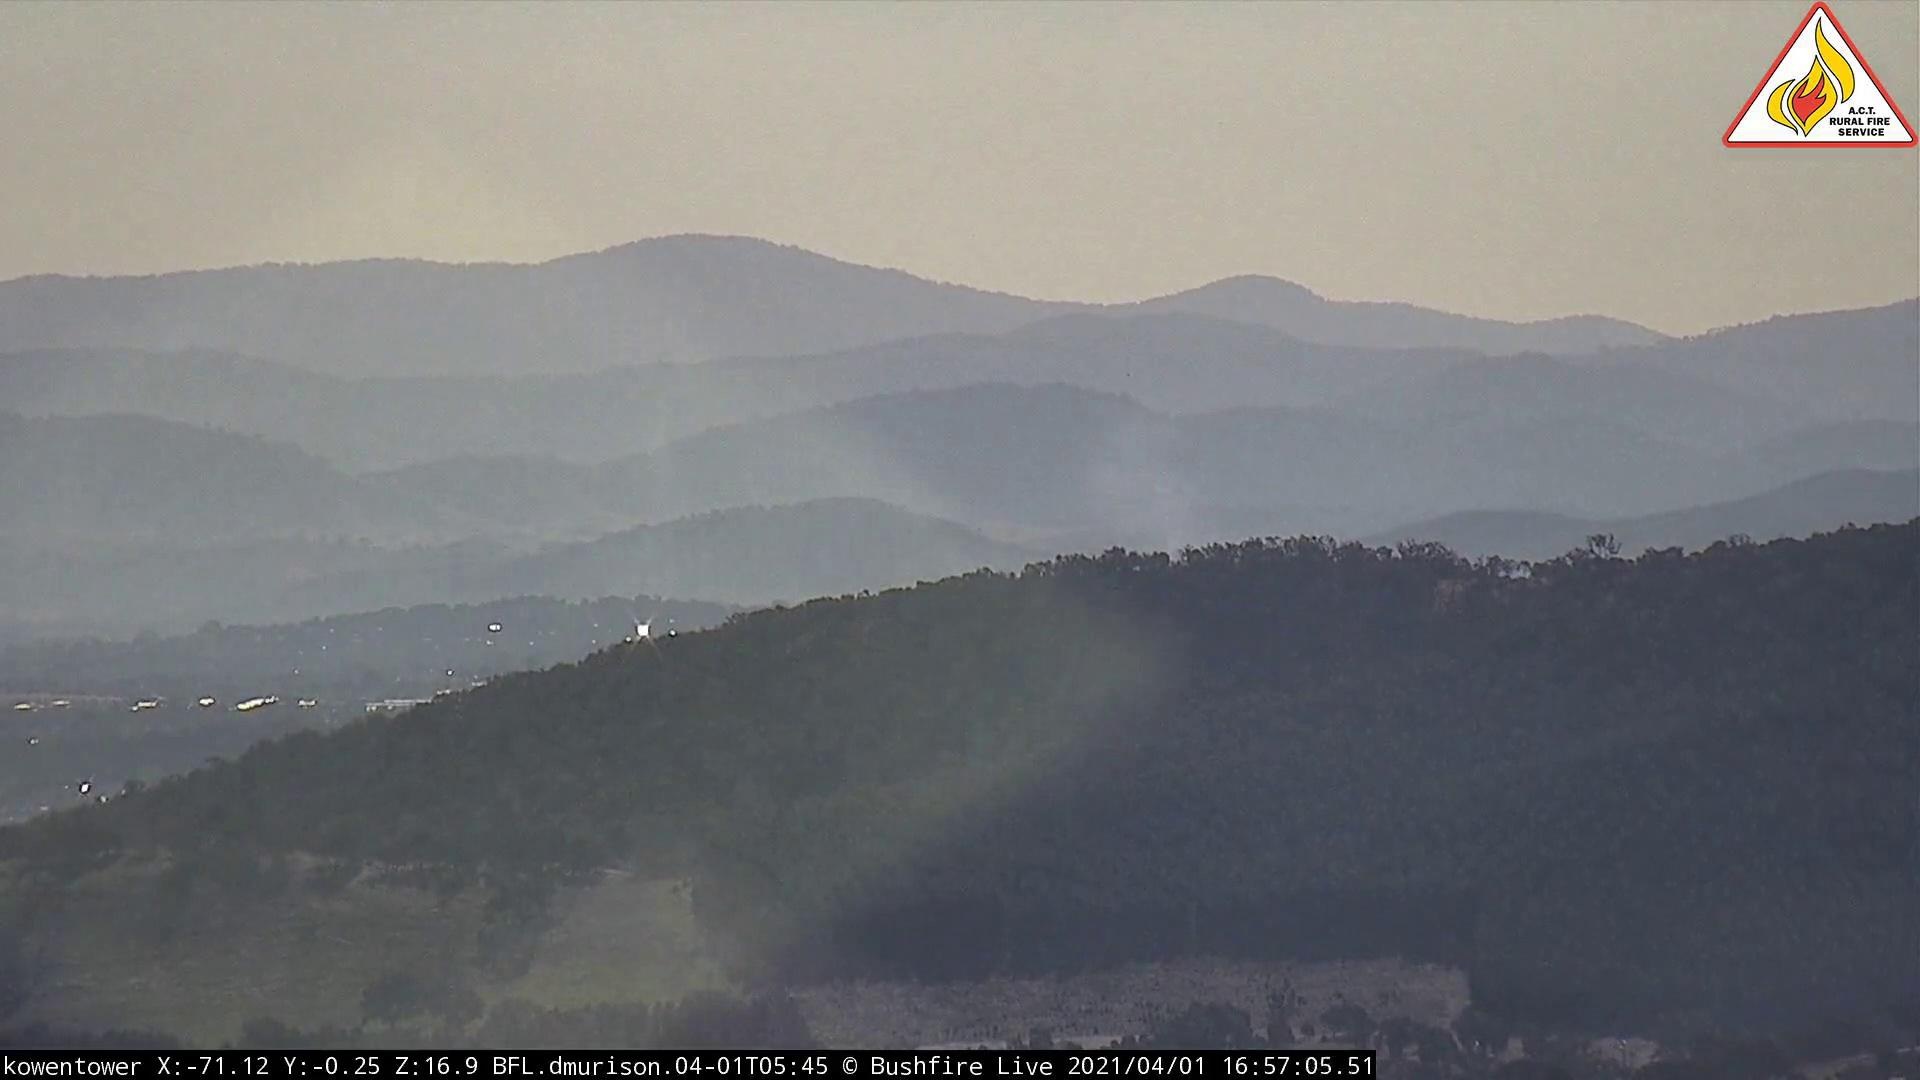Smoke: (906, 414, 1208, 636)
